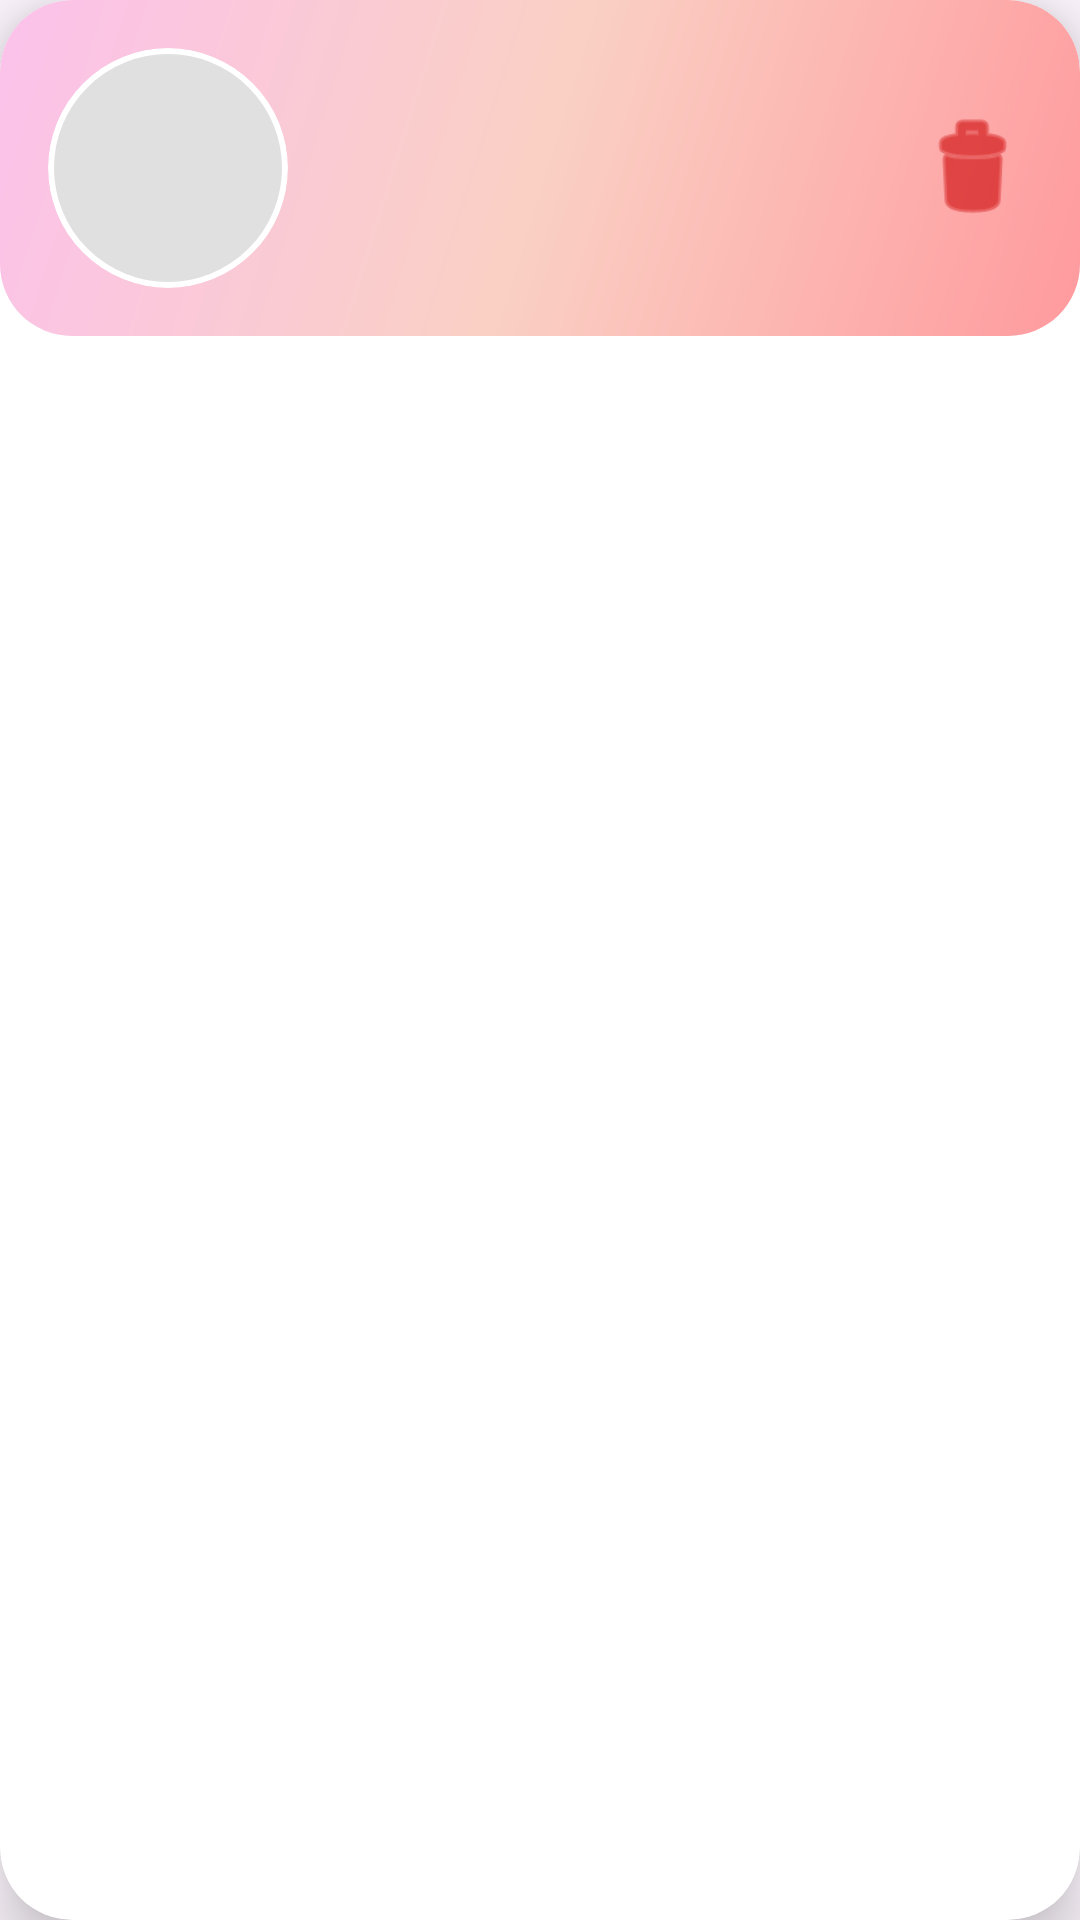

Locate icon controls on the screen. Image size 1080*1920, boxes as (x1, y1, x2, y2).
delete: (939, 119, 1007, 213)
